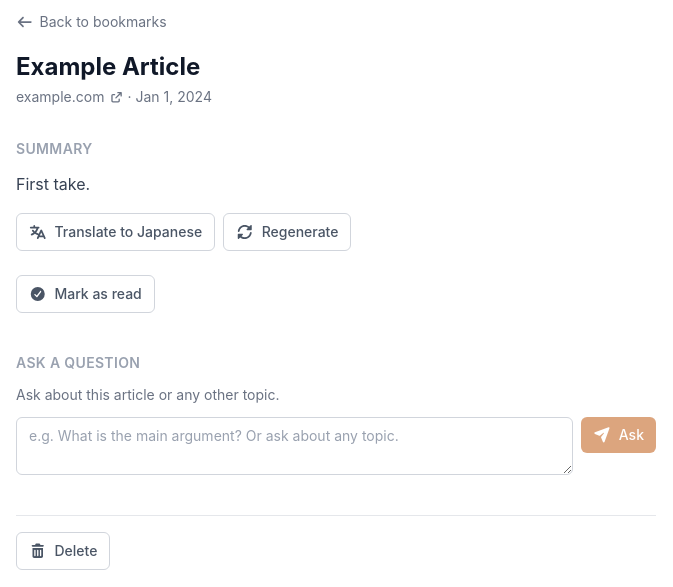
BookmarkPage › offers to regenerate an existing summary
Click the button "Regenerate" at (287, 232), box top-left (223, 213), bottom-right (352, 251)
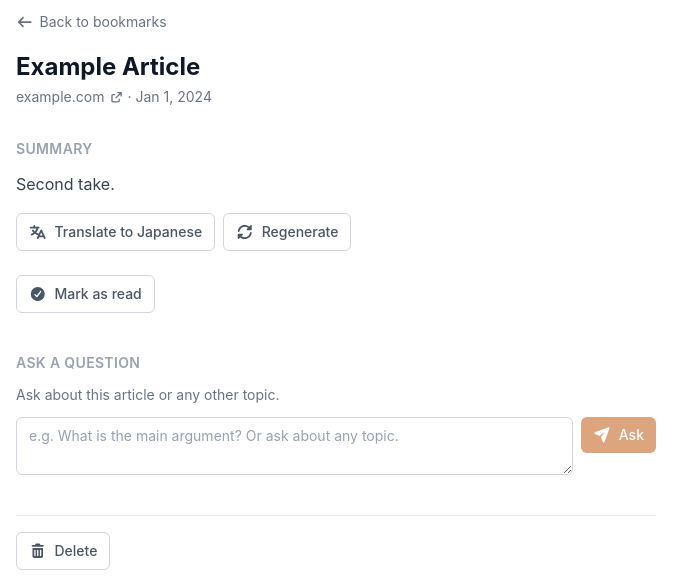
Check: the text "Second take." is shown, box top-left (16, 171), bottom-right (115, 197)
Check: the text "First take." is gone
